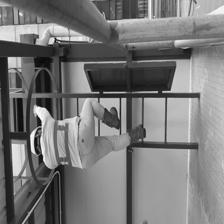Feet: (95, 95, 120, 133), (129, 119, 152, 147)
Hand: (23, 100, 55, 118)
Ladder: (15, 94, 211, 153)
